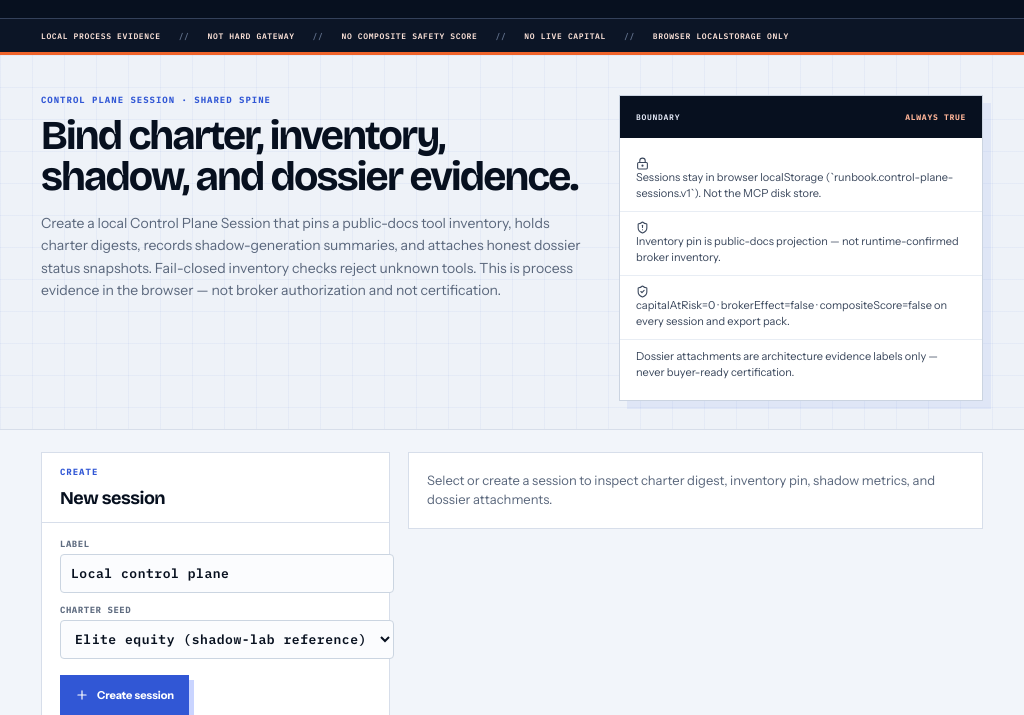
Test case: Session dashboard › exposes Seal process capsule button on a live session
This screenshot has width=1024, height=715.
Replace the text in the field named "Session label" with "Seal button surface": (227, 574) [60, 554, 394, 593]
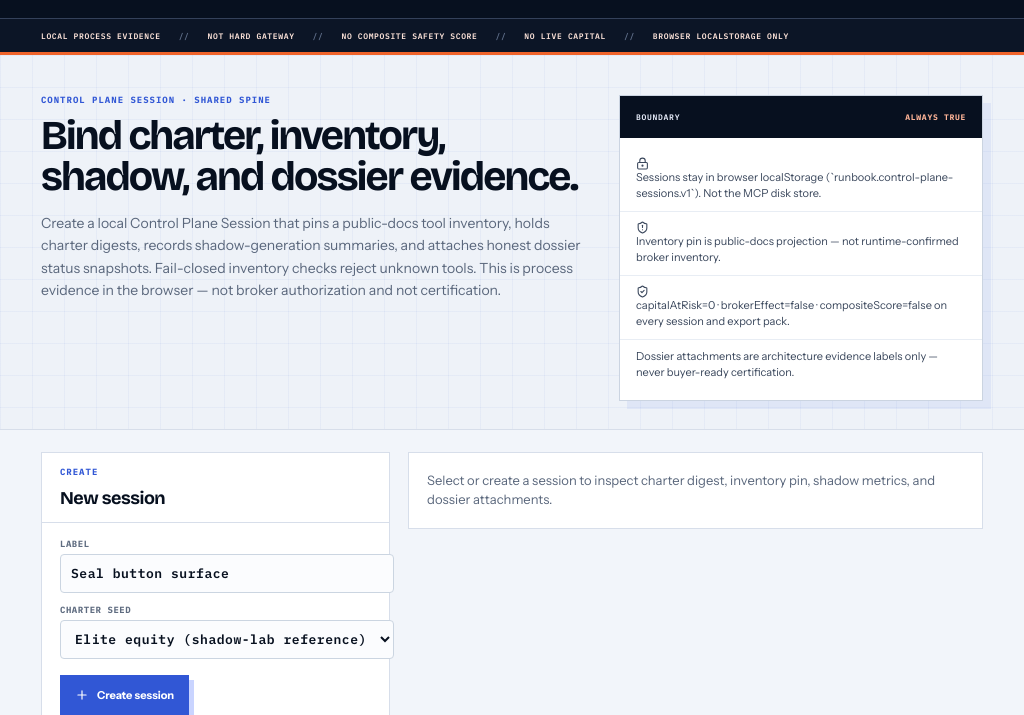
Click the button "Create session": (125, 695) [60, 675, 189, 714]
(page scrolled)
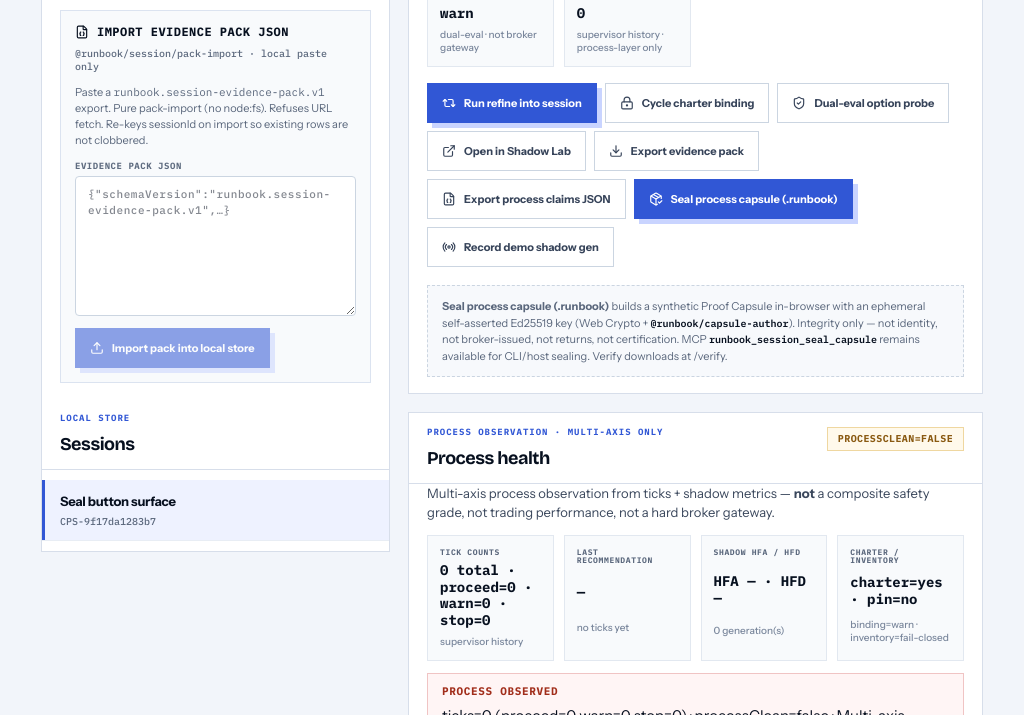
Now the option "Seal button surface CPS-9f17da1283b7" is shown, box [42, 480, 389, 541]
Now the button "Seal process capsule (.runbook)" is enabled, box [634, 179, 853, 219]
Now the element named "Seal capsule note" shows "not identity", box [442, 316, 938, 346]
